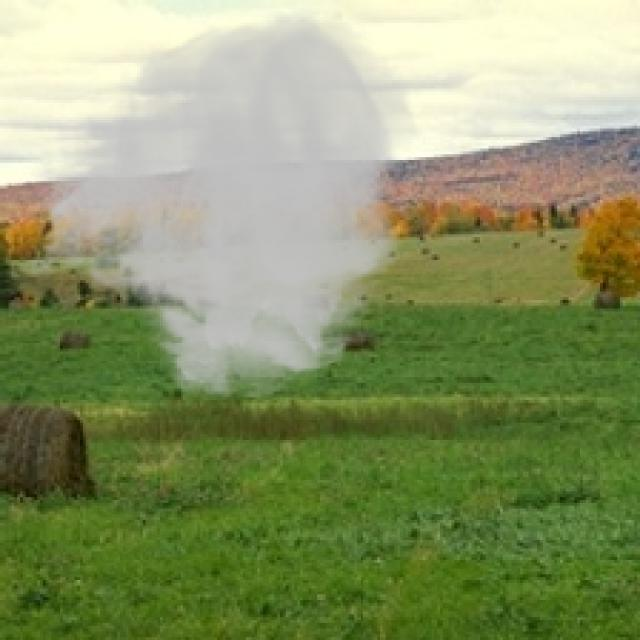smoke: (20, 6, 420, 403)
